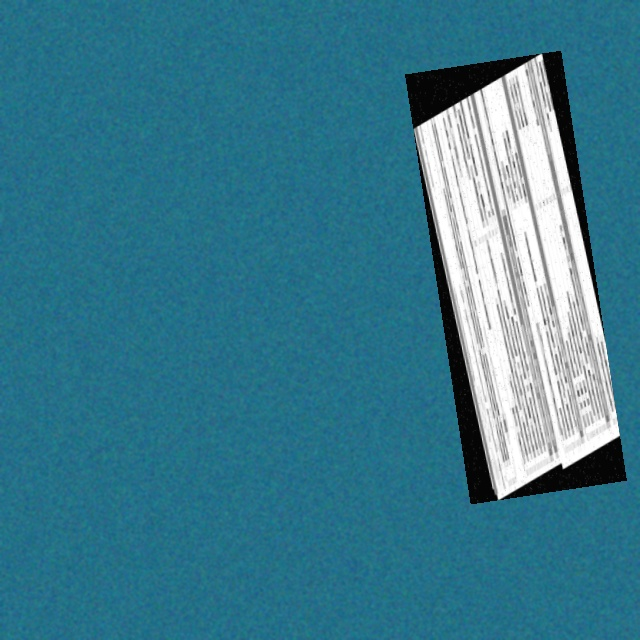electricity-bill: (405, 50, 627, 503)
